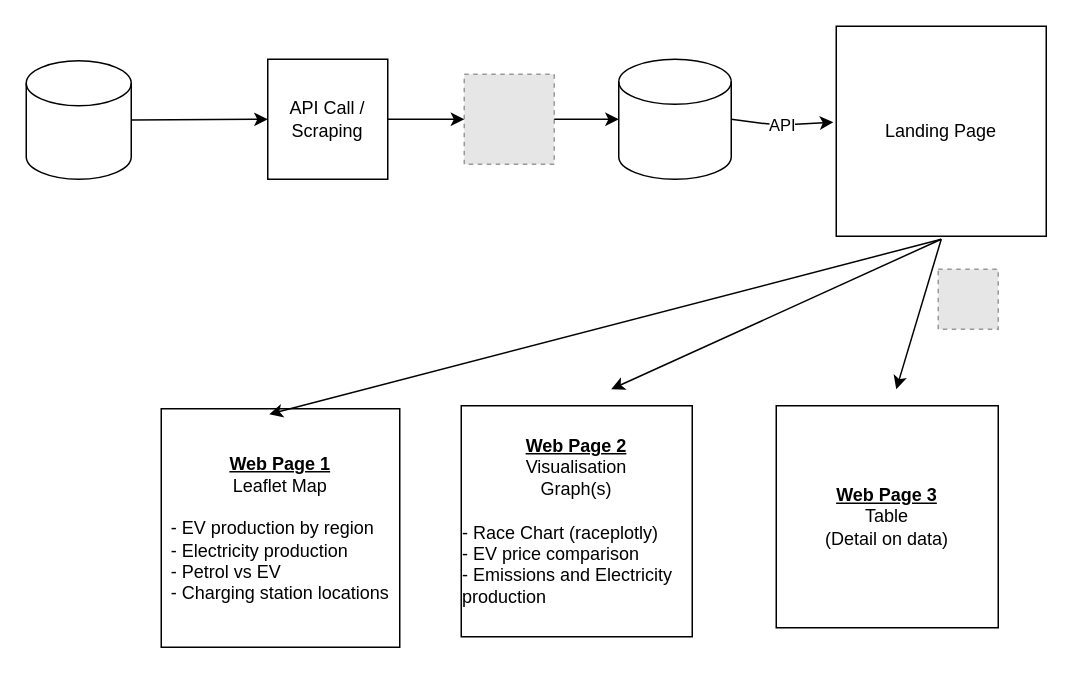
The diagram is 1073 pixels wide and 674 high, and some of its shapes have lost their labels. Grey dashed boxes stand in for pictures. The box of each missing label's shape, as (x1, y1, x2, y2) in pixels:
Externa Datasources: (25, 59, 131, 179)
Web App Database: (617, 58, 731, 179)
